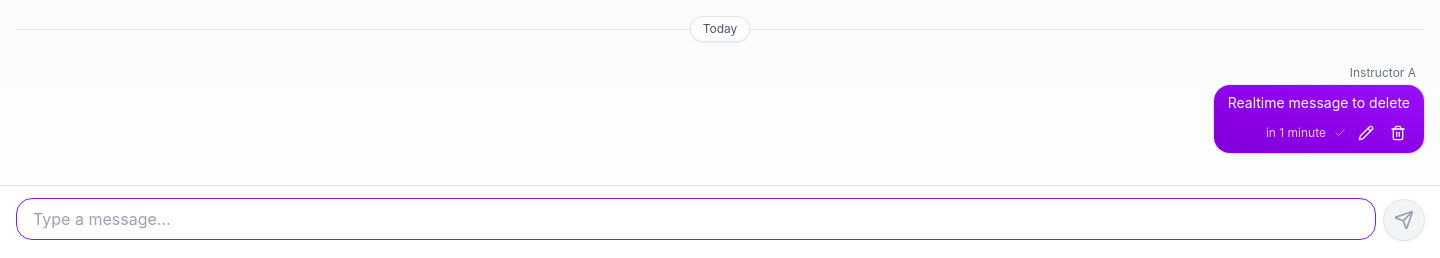
Test: Chat onDelete for realtime messages (lines 857-866) › updates local realtime state when deleting a message that was added via SSE
The width and height of the screenshot is (1440, 258).
expect the text "Realtime message to delete" is shown: met, box [1228,93,1410,113]
Note: Click delete on this message
Step 1. Click the button named "Delete message" → (1398, 133), box [1386,121,1410,145]
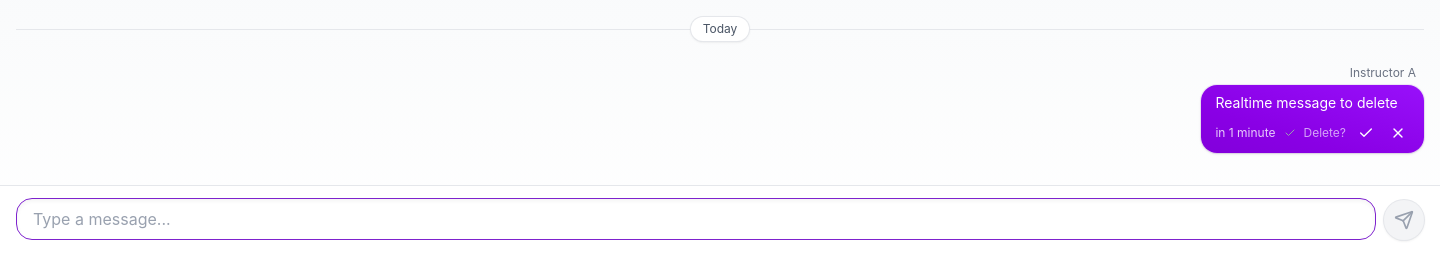
expect the button named "Confirm delete" is shown: met
Step 2. Click the button named "Confirm delete" → (1366, 133), box [1354,121,1378,145]
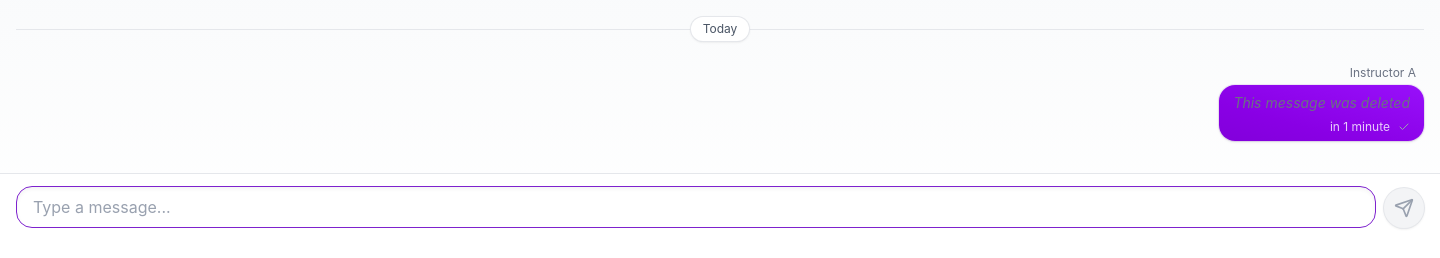
expect the text "This message was deleted" is shown: met, box [1233,93,1410,113]
